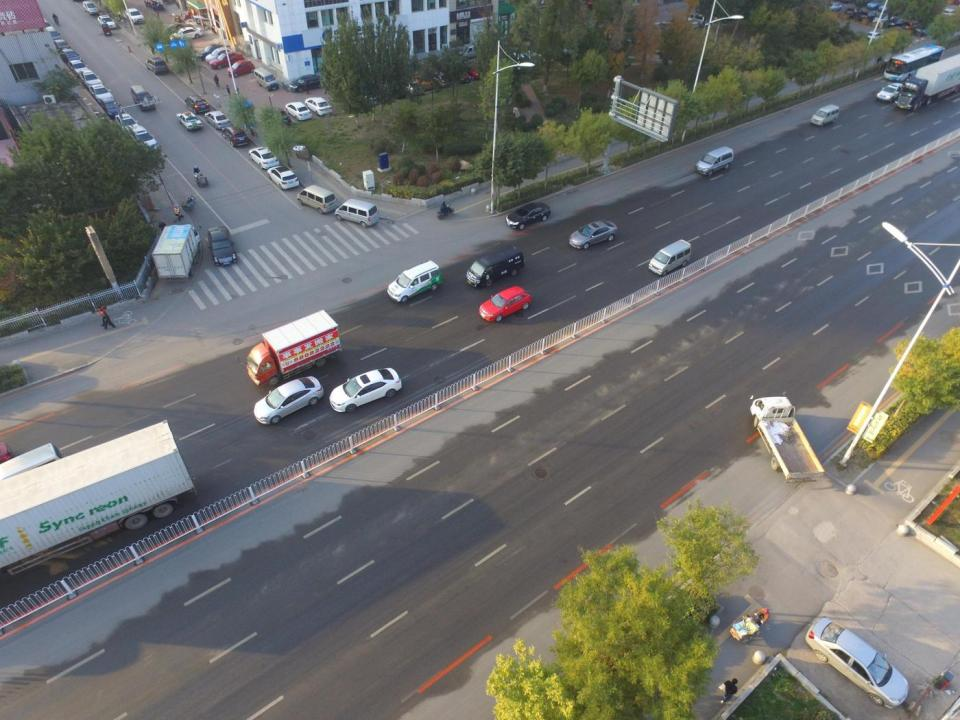bus: (884, 43, 945, 81)
car: (804, 615, 910, 709), (326, 366, 403, 412), (254, 376, 324, 426), (387, 257, 444, 305), (479, 285, 532, 321), (568, 219, 618, 251), (503, 202, 551, 229), (208, 226, 238, 268), (268, 166, 299, 190), (132, 126, 160, 152), (289, 74, 325, 93), (250, 145, 278, 169), (221, 126, 250, 148), (184, 91, 209, 114), (197, 42, 226, 61), (117, 113, 139, 138), (875, 82, 902, 102), (205, 110, 231, 130), (178, 109, 202, 130), (74, 70, 104, 86), (88, 86, 113, 105), (307, 98, 333, 116), (286, 103, 311, 121), (172, 27, 200, 42), (209, 56, 244, 68), (101, 99, 123, 118), (228, 61, 256, 75), (205, 49, 235, 62), (160, 23, 192, 35), (271, 106, 290, 126), (126, 8, 146, 26), (688, 10, 708, 28), (71, 61, 91, 78), (145, 57, 166, 73), (63, 49, 84, 63), (56, 38, 72, 56), (99, 15, 116, 30), (886, 16, 905, 29), (874, 14, 893, 27), (83, 1, 98, 16), (47, 25, 63, 39), (823, 1, 841, 13), (858, 10, 877, 21), (846, 8, 860, 21), (915, 23, 930, 35), (864, 0, 880, 11), (906, 19, 920, 30), (944, 7, 956, 18), (42, 16, 51, 29), (880, 4, 894, 12)
truck: (0, 420, 197, 572), (247, 310, 341, 384), (750, 395, 828, 481), (897, 55, 960, 112), (156, 224, 200, 283)
van: (466, 246, 525, 289), (1, 443, 66, 479), (648, 239, 693, 278), (335, 196, 382, 228), (693, 146, 735, 178), (296, 183, 338, 214), (808, 105, 841, 127), (130, 86, 157, 111), (254, 68, 278, 92)
